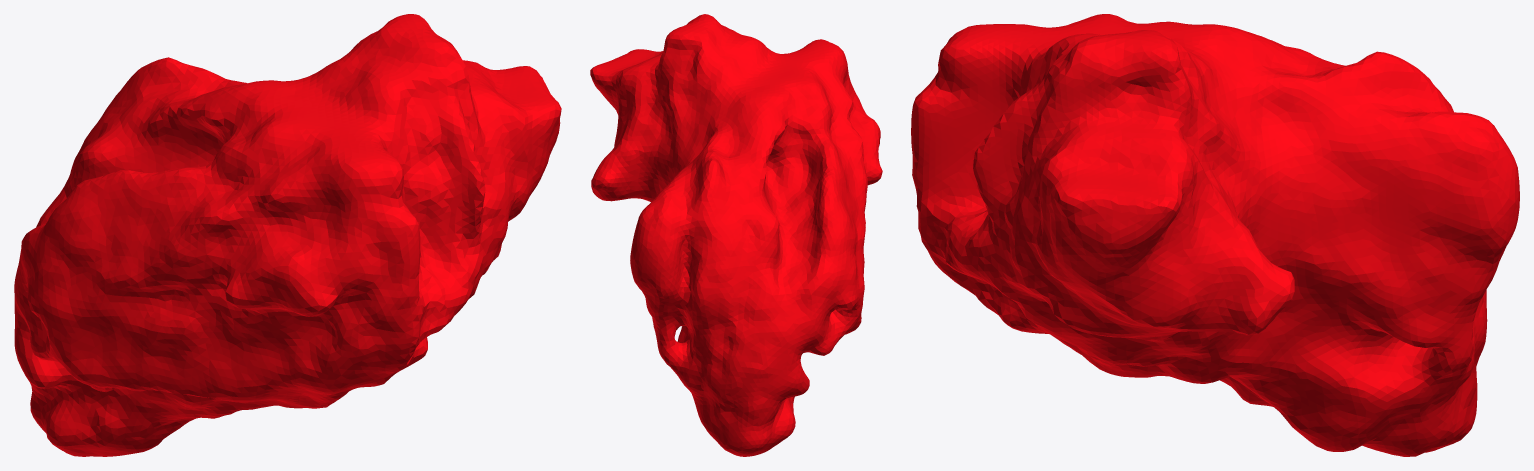
The model's file is fontanLA.glb.
3 views of the same model, side by side, from view 1: azimuth 30°, elevation 25°; view 2: azimuth 150°, elevation 25°; view 3: azimuth 270°, elevation 25° (orthographic). The views are drawn at different scales.
Parts seen in each view (by area): view 1: 2018001 Left Ventricle; view 2: 2018001 Left Ventricle; view 3: 2018001 Left Ventricle.
Part boxes in pixels (box(x1,y1,x2,y2)): 2018001 Left Ventricle: box(14, 14, 561, 456); 2018001 Left Ventricle: box(590, 14, 882, 456); 2018001 Left Ventricle: box(911, 14, 1519, 456).
Bounding box in the file's own units: 70.77 × 71.56 × 75.27.
